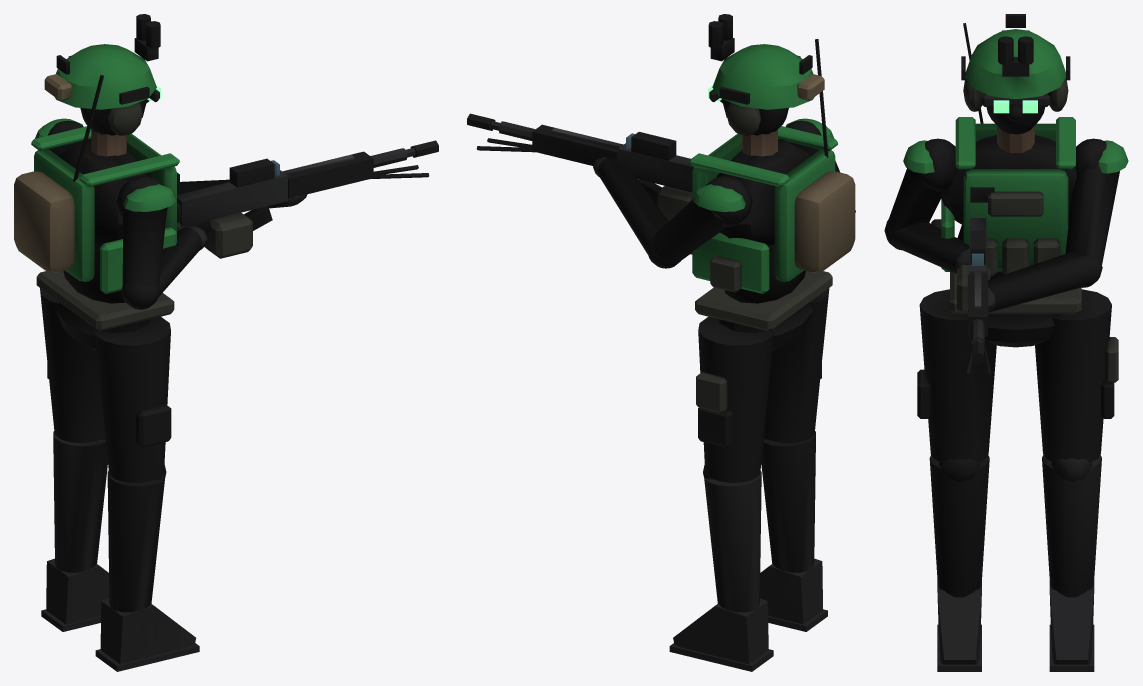
The model's file is u_kommando.glb.
3 views of the same model, side by side, from view 1: azimuth 30°, elevation 25°; view 2: azimuth 150°, elevation 25°; view 3: azimuth 270°, elevation 25° (orthographic). The views are drawn at different scales.
Visible parts, largest first — view 1: Kommando_Walls, Kommando_shL, Kommando_shR, Kommando_thL, Kommando_Details, Kommando_thR; view 2: Kommando_Walls, Kommando_shR, Kommando_shL, Kommando_Details, Kommando_thR, Kommando_thL; view 3: Kommando_Walls, Kommando_shR, Kommando_shL, Kommando_thR, Kommando_Details, Kommando_thL.
Part boxes in pixels (left/top/right/bottom): Kommando_Walls: left=14, top=38, right=438, bottom=350; Kommando_shL: left=95, top=465, right=199, bottom=671; Kommando_shR: left=41, top=431, right=109, bottom=631; Kommando_thL: left=94, top=316, right=170, bottom=482; Kommando_Details: left=36, top=14, right=429, bottom=447; Kommando_thR: left=40, top=288, right=105, bottom=442; Kommando_Walls: left=467, top=38, right=855, bottom=350; Kommando_shR: left=669, top=465, right=773, bottom=671; Kommando_shL: left=760, top=431, right=827, bottom=631; Kommando_Details: left=476, top=14, right=832, bottom=447; Kommando_thR: left=698, top=316, right=774, bottom=482; Kommando_thL: left=764, top=288, right=829, bottom=443; Kommando_Walls: left=884, top=29, right=1128, bottom=364; Kommando_shR: left=1042, top=455, right=1101, bottom=671; Kommando_shL: left=929, top=455, right=989, bottom=671; Kommando_thR: left=1035, top=289, right=1111, bottom=462; Kommando_Details: left=917, top=14, right=1118, bottom=418; Kommando_thL: left=919, top=289, right=996, bottom=462.
Bounding box in the file's own units: 0.416 × 0.62 × 0.2192.
